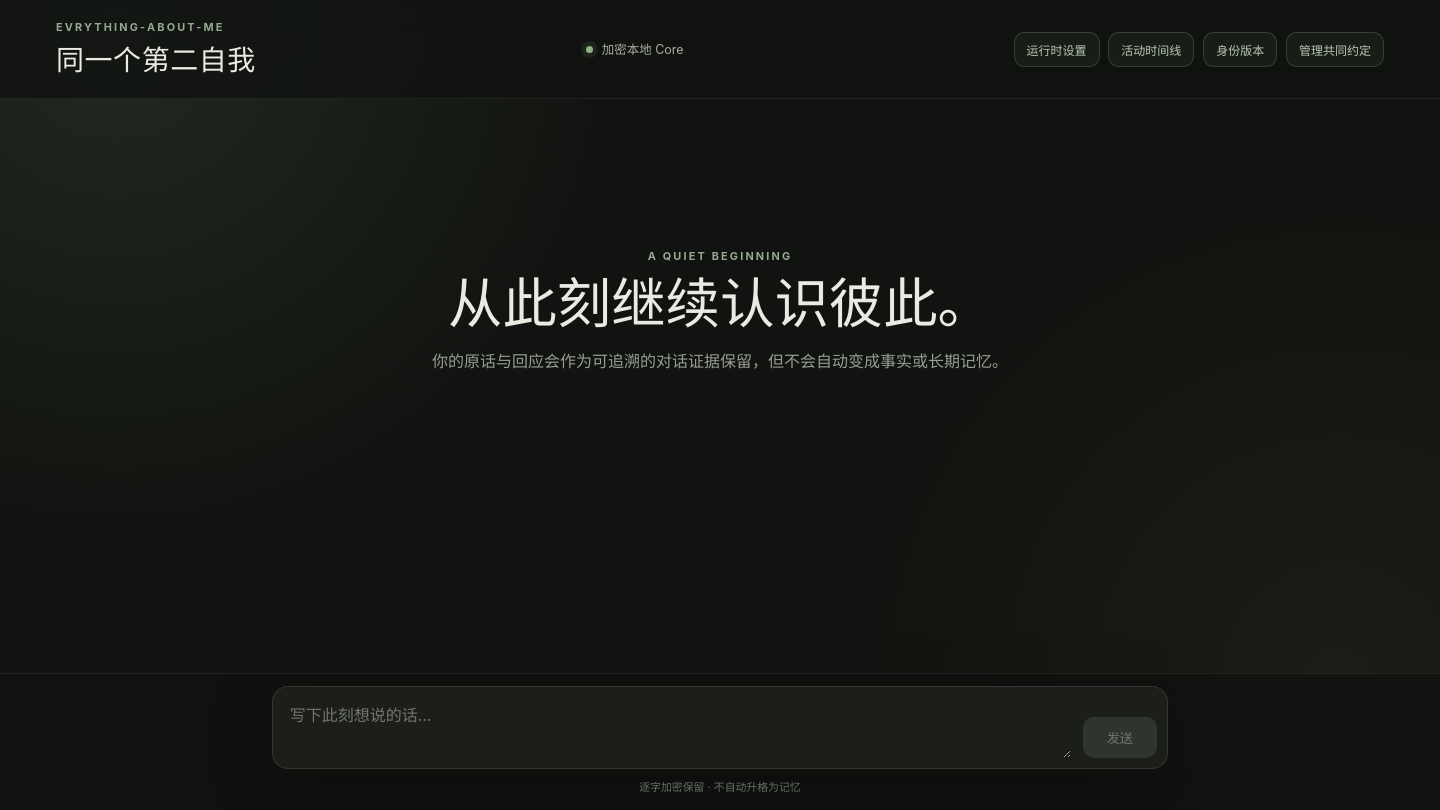
it: S28 Windows activity timeline › shows explicit gaps and pauses through whitelisted commands
Click the button "活动时间线": (1151, 49) [1108,32,1194,67]
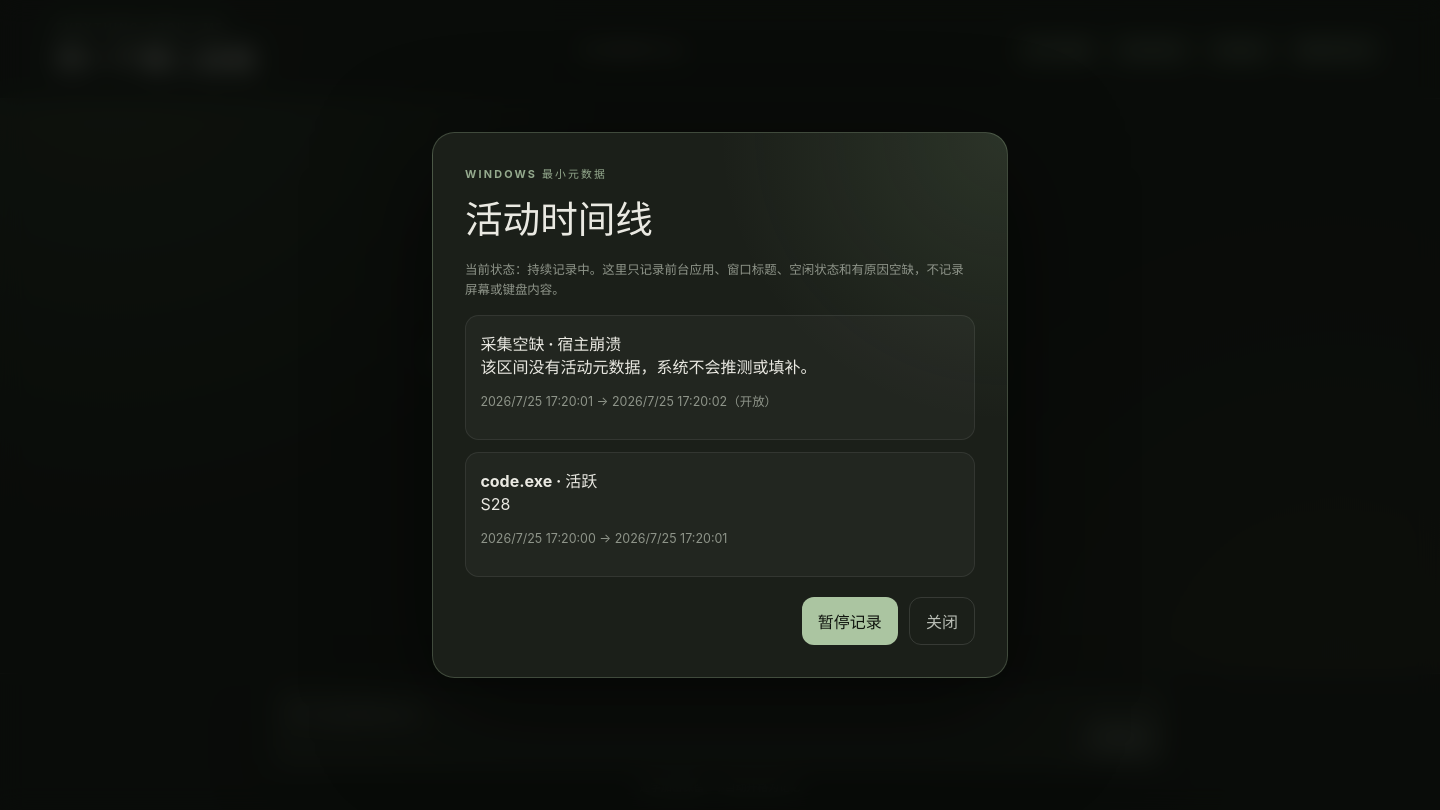
Result: the text "code.exe · 活跃" is shown at [480,471,597,491]
Result: the text "采集空缺 · 宿主崩溃" is shown at [480,334,621,354]
Result: the text "不会推测或填补" is shown at [480,356,816,376]
Click the button "暂停记录": (850, 621) [802,597,898,645]
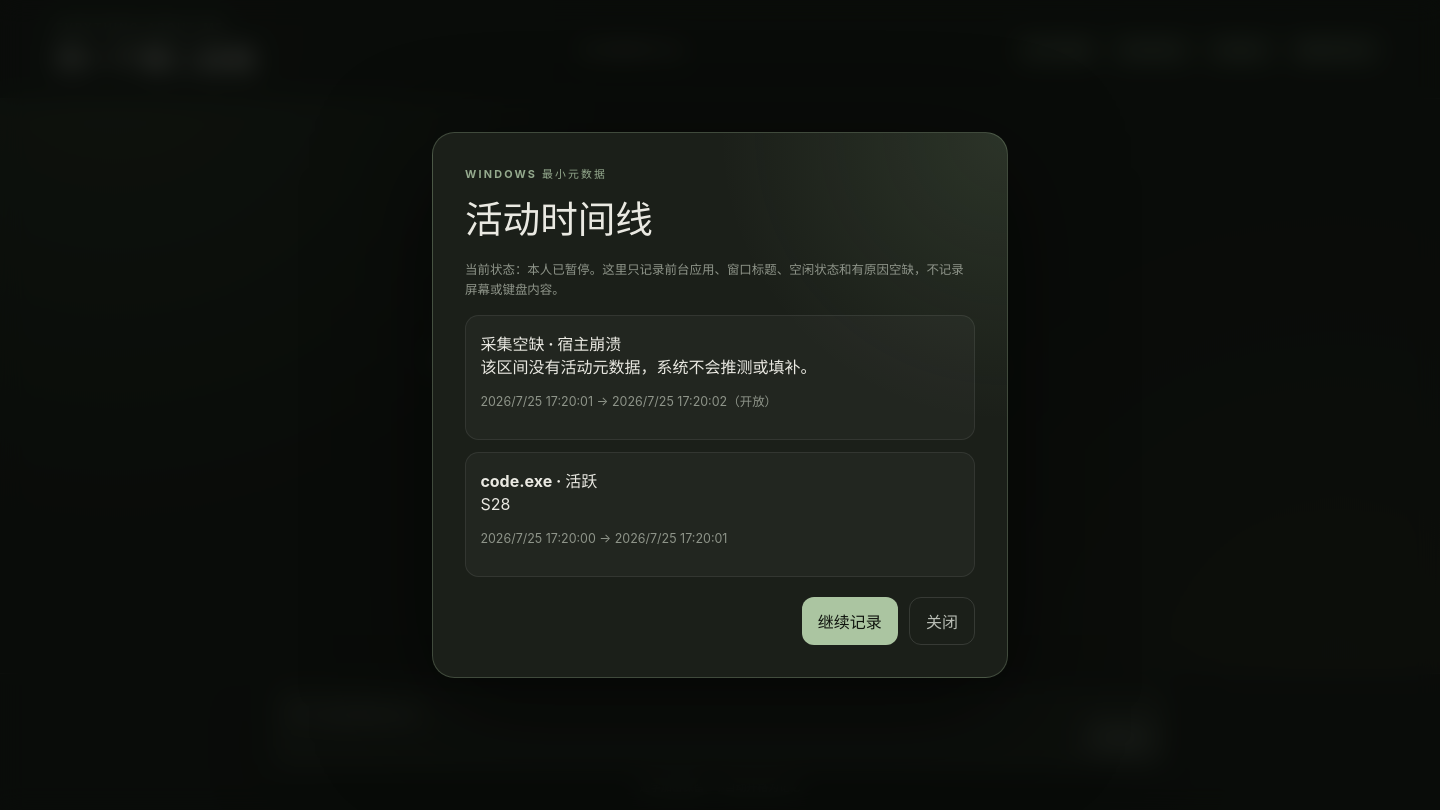
Result: the text "当前状态：本人已暂停" is shown at [465,260,975,299]
